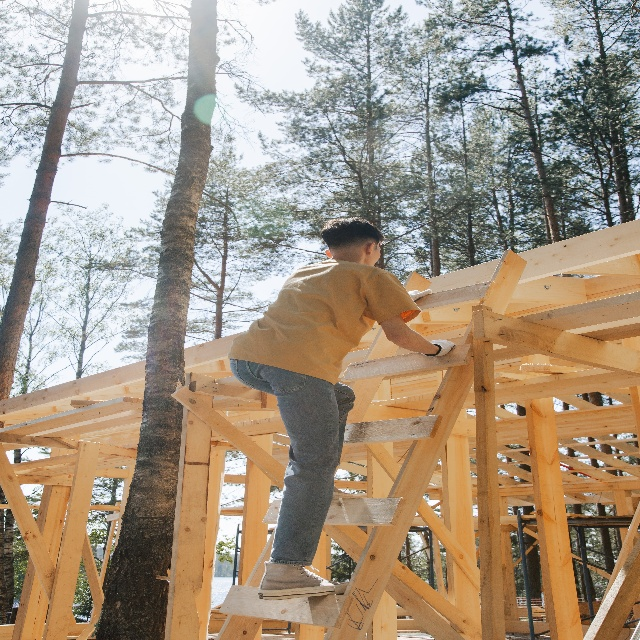Guantes: (422, 336, 455, 356)
